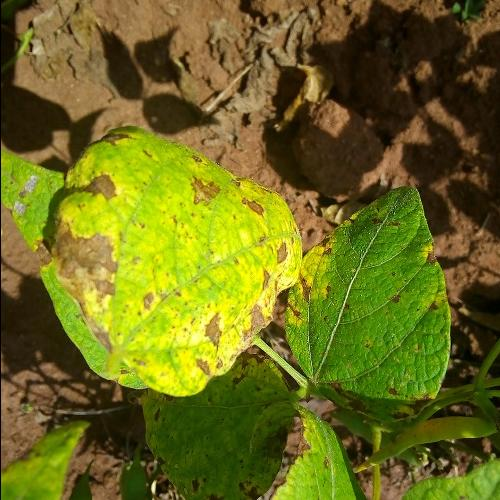hawar: (53, 159, 246, 366)
